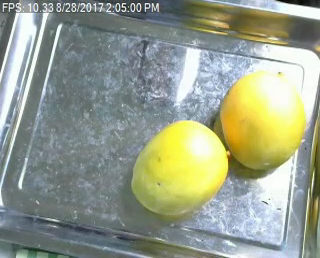Mango: (128, 114, 229, 216), (215, 64, 307, 168)
